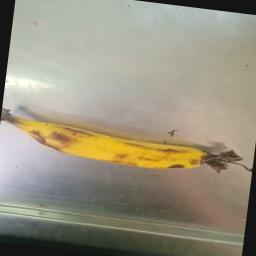Banana Unripe: (0, 89, 252, 191)
